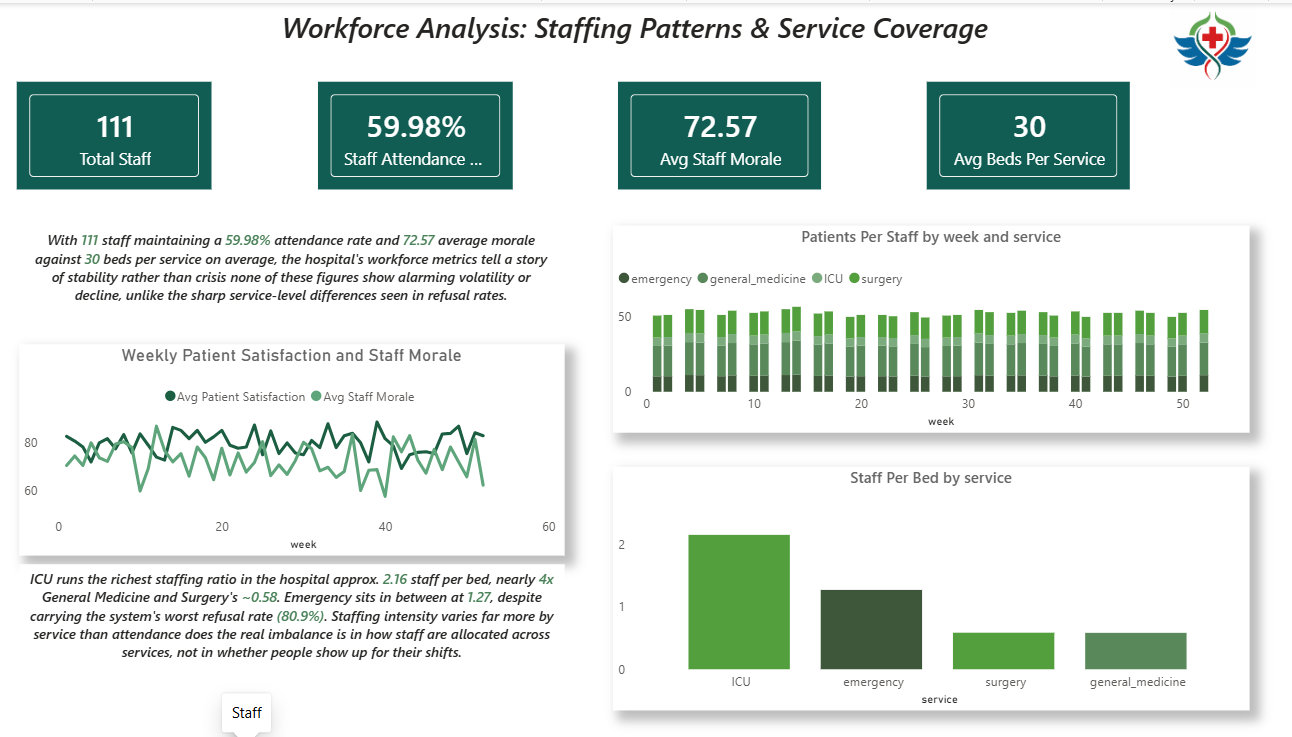

The page's visual inventory and layout, read from the dashboard file:
{"tool":"powerbi","page":{"name":"Staff","canvas":[1280,720],"ordinal":1},"visuals":[{"type":"textbox","box":[178.7,0,922.6,101],"z":0},{"type":"image","box":[1140.1,0,122.4,83],"z":1000},{"type":"textbox","box":[59.1,214.7,505.5,100.1],"z":2000},{"type":"lineChart","title":"Weekly Patient Satisfaction and Staff Morale","fields":{"Category":["services_weekly.week"],"Y":["services_weekly.Avg Patient Satisfaction","services_weekly.Avg Staff Morale"]},"box":[49.5,329.4,526,203.9],"z":3000},{"type":"columnChart","fields":{"Category":["staff_schedule.week"],"Y":["patients.Patients Per Staff"],"Series":["patients.service"]},"box":[622.5,214.7,614.1,200.3],"z":4000},{"type":"cardVisual","fields":{"Data":["staff_schedule.Total Staff"]},"box":[42.2,71.2,198.6,114.3],"z":5000},{"type":"cardVisual","fields":{"Data":["services_weekly.Avg Staff Morale"]},"box":[622.5,71.2,206.8,114.3],"z":6000},{"type":"cardVisual","fields":{"Data":["staff_schedule.Staff Attendance Rate"]},"box":[332.6,71.2,198.6,114.3],"z":7000},{"type":"cardVisual","fields":{"Data":["patients.Avg Beds Per Service"]},"box":[920.5,71.2,206.8,114.3],"z":8000},{"type":"clusteredColumnChart","fields":{"Category":["services_weekly.service"],"Y":["staff_schedule.Staff Per Bed"]},"box":[622.5,447.6,614.1,235.3],"z":9000},{"type":"textbox","box":[49.5,541.7,526,103.8],"z":10000}]}

Visuals, with their boxes in screenshot pixels (x1, y1, x2, y2), scaled from the page's 1280x720 canvas onto the 1292x737 screenshot:
textbox: 180 0 1112 103
image: 1151 0 1274 85
textbox: 60 220 570 322
"Weekly Patient Satisfaction and Staff Morale" lineChart: 50 337 581 546
columnChart - staff_schedule.week x patients.Patients Per Staff: 628 220 1248 425
cardVisual - staff_schedule.Total Staff: 43 73 243 190
cardVisual - services_weekly.Avg Staff Morale: 628 73 837 190
cardVisual - staff_schedule.Staff Attendance Rate: 336 73 536 190
cardVisual - patients.Avg Beds Per Service: 929 73 1138 190
clusteredColumnChart - services_weekly.service x staff_schedule.Staff Per Bed: 628 458 1248 699
textbox: 50 554 581 661
